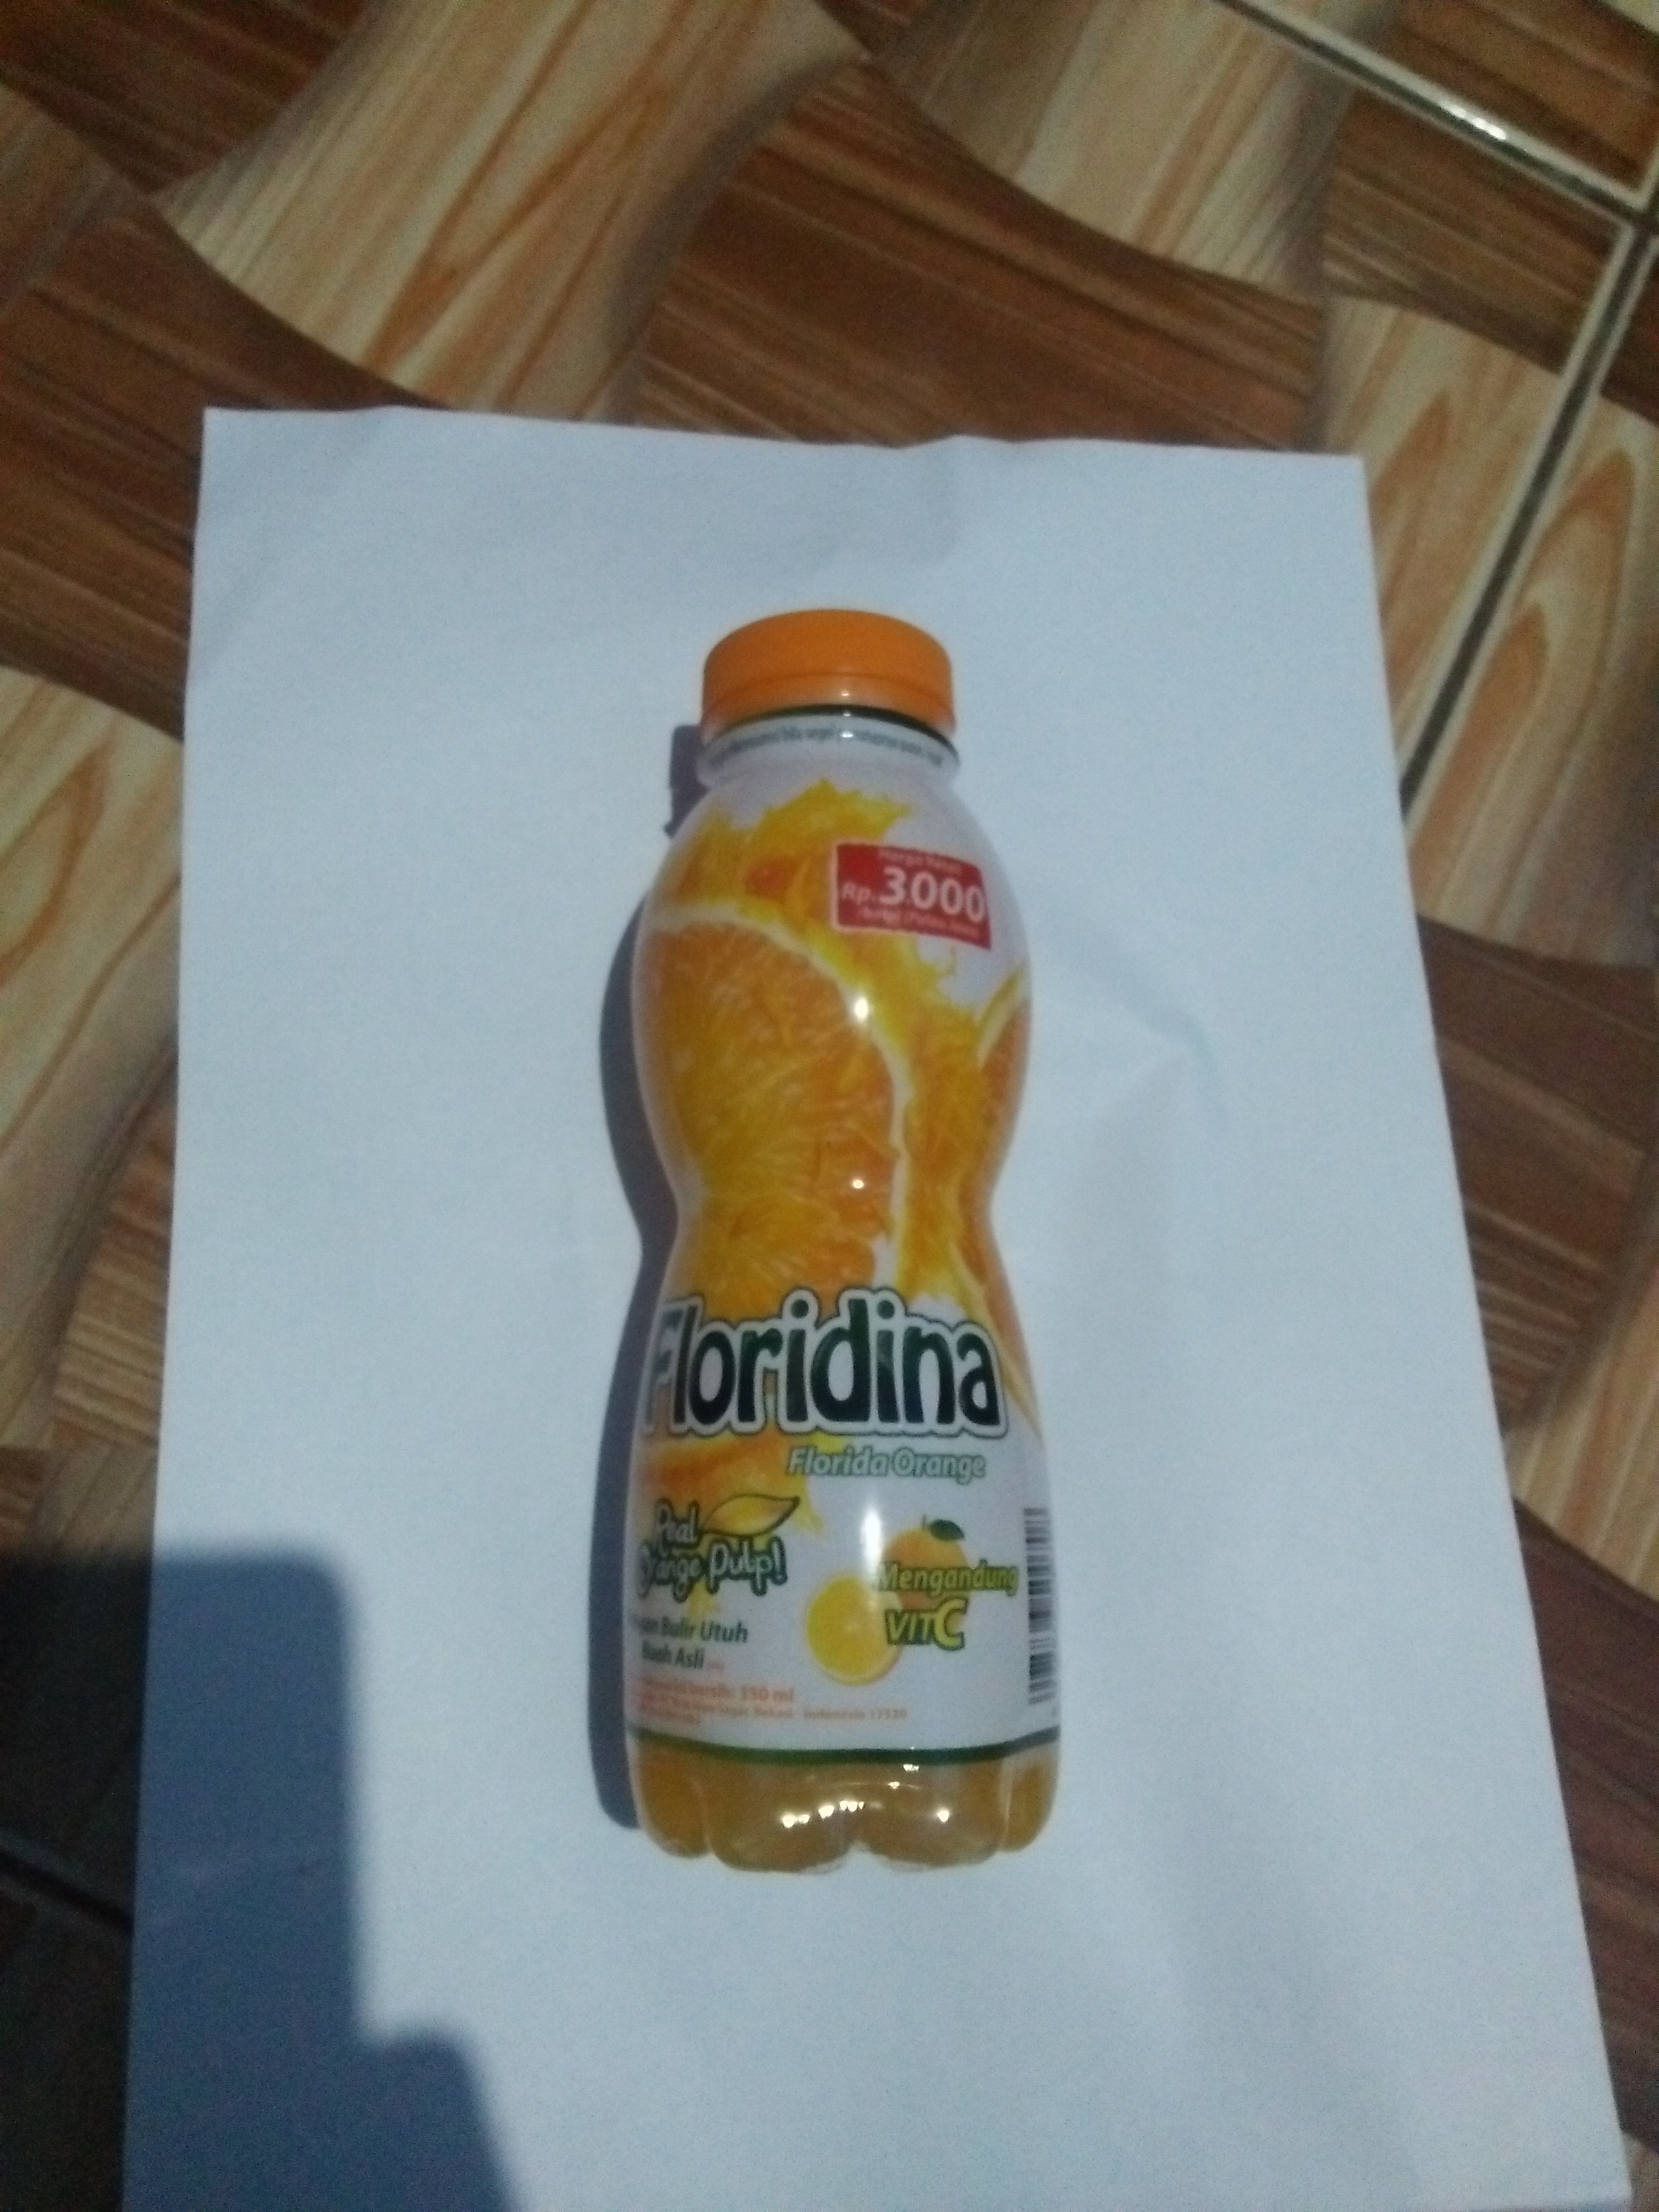Floridina: (617, 599, 1073, 1878)
